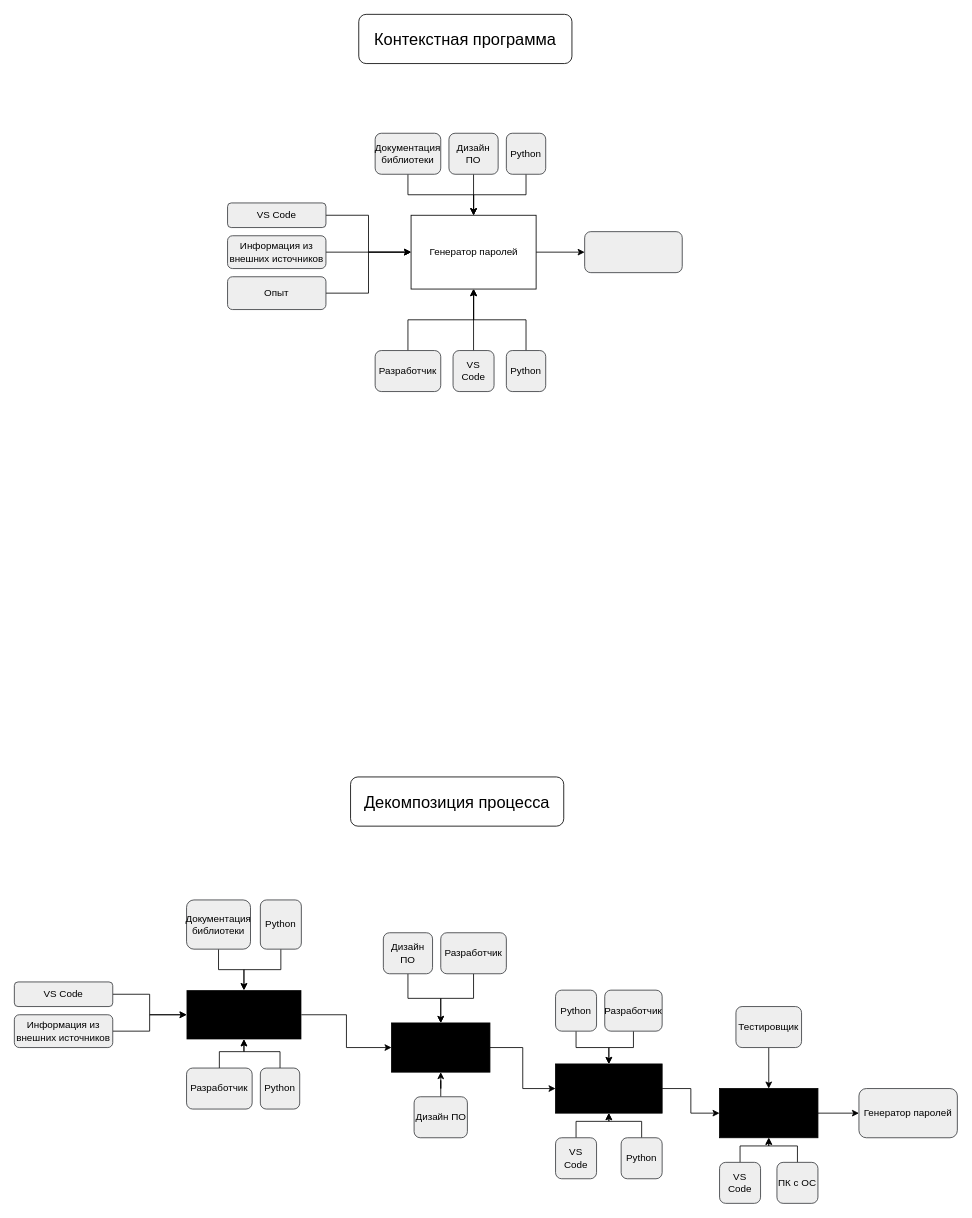
Image size: 972x1218. Some labels were removed from this diagram. The centre of each missing label's shape, as x and y in pixels:
"Подключить библиотеки" belongs at [243,1014].
"Протестировать работоспособность программы" belongs at [768,1113].
"Сгенерированный пароль" belongs at [633,252].
"Создать и подключить логику генерации пароля" belongs at [608,1088].
"Создать интерфейс" belongs at [440,1047].
